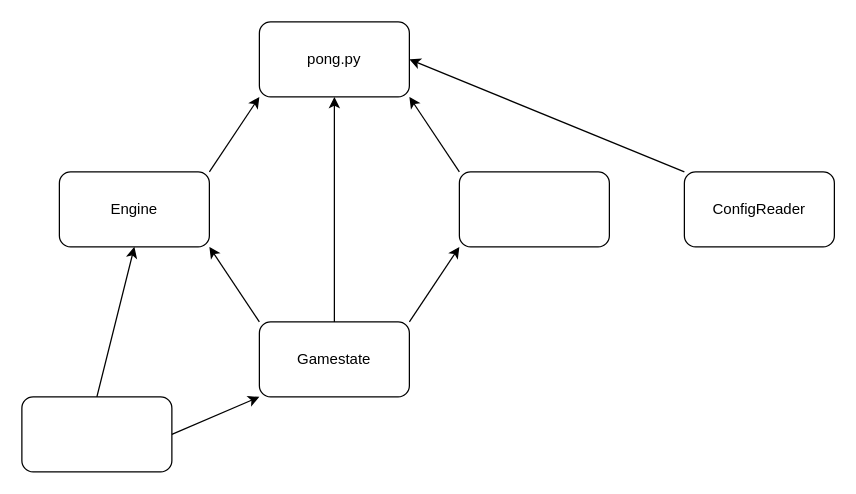
Image size: 856x494. Some labels were removed from this diagram. The shapes that lost their labels are listed below. From the top down, each one's centre as x and y in pixels, then its label:
At point 533,209: "Renderer".
At point 96,434: "Vector".
